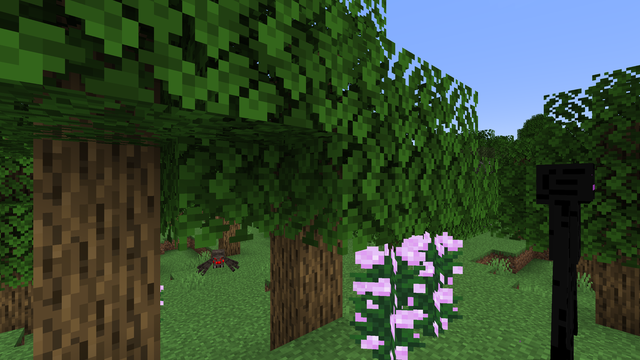araignees: (200, 247, 236, 276)
endermens: (529, 154, 600, 349)
